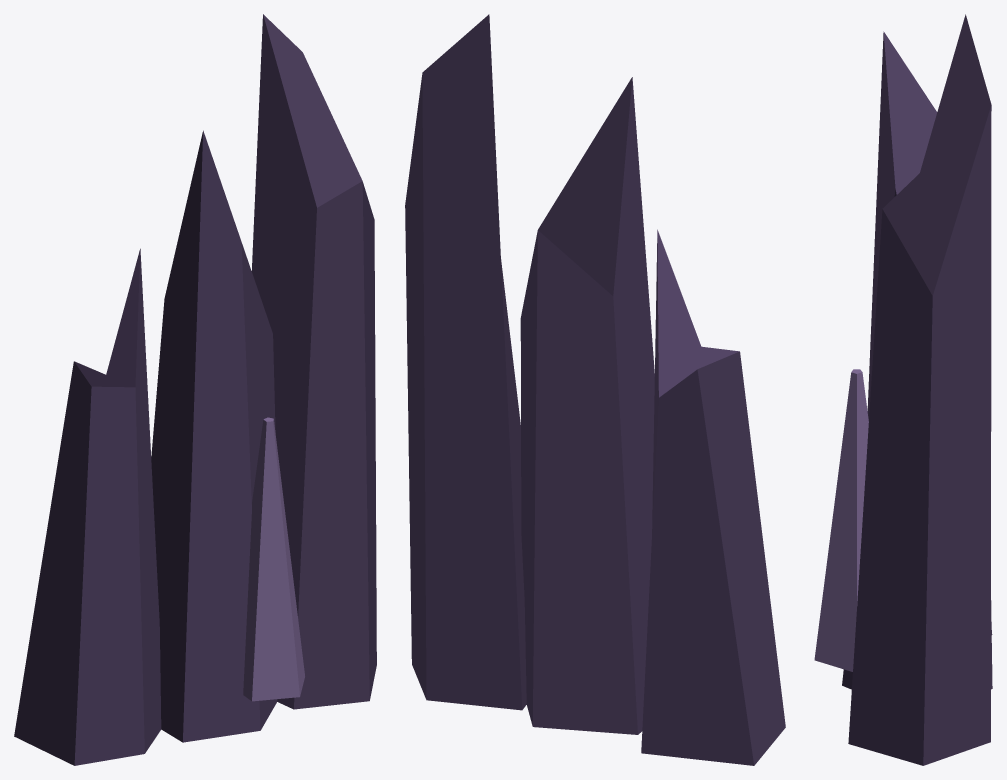
Rendered from map-boundaries-v5__dragon_09.glb.
3 renders of one model, left to right at view 1: azimuth 30°, elevation 25°; view 2: azimuth 150°, elevation 25°; view 3: azimuth 270°, elevation 25°, orthographic. The views are drawn at different scales.
Visible parts, largest first — view 1: dragon_09; view 2: dragon_09; view 3: dragon_09.
Part boxes in pixels (x1,y1,x2,y2): dragon_09: (14, 14, 376, 765); dragon_09: (405, 14, 785, 765); dragon_09: (814, 14, 992, 765).
Bounding box in the file's own units: 1.44 × 2.61 × 0.5987.
